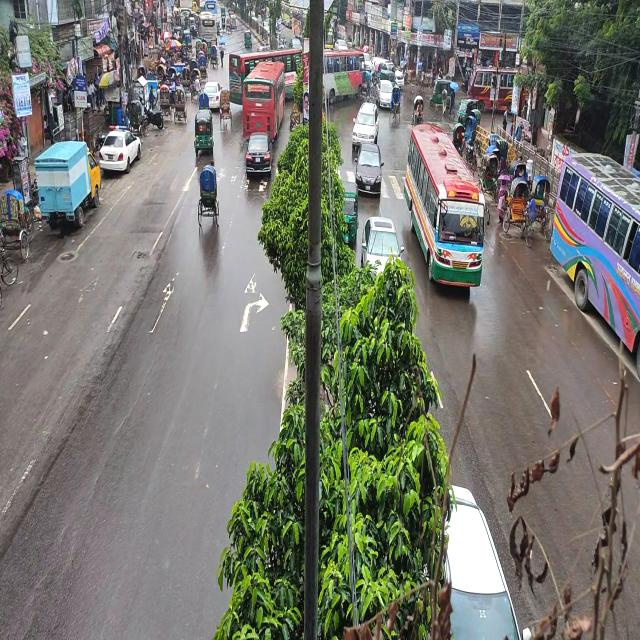black: (245, 130, 273, 182), (356, 143, 382, 199)
silver: (363, 220, 404, 284)
white: (99, 127, 141, 174), (352, 100, 377, 150), (376, 78, 396, 110), (203, 81, 220, 111)
